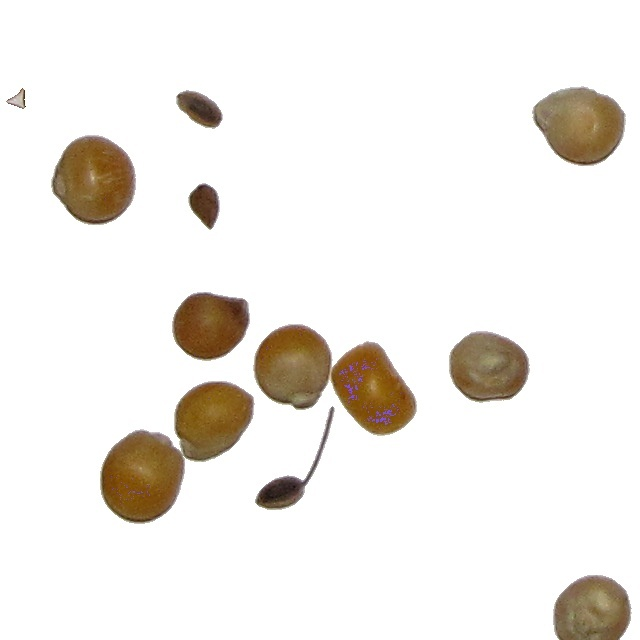buckwheat: (175, 89, 224, 130), (187, 182, 221, 231)
dill: (254, 405, 336, 511)
mais: (329, 340, 418, 437), (99, 428, 186, 525), (50, 134, 137, 226), (531, 85, 627, 167), (252, 323, 334, 411), (173, 380, 256, 463), (448, 330, 531, 404), (171, 291, 251, 362), (552, 574, 633, 640)
other: (5, 87, 27, 110)
